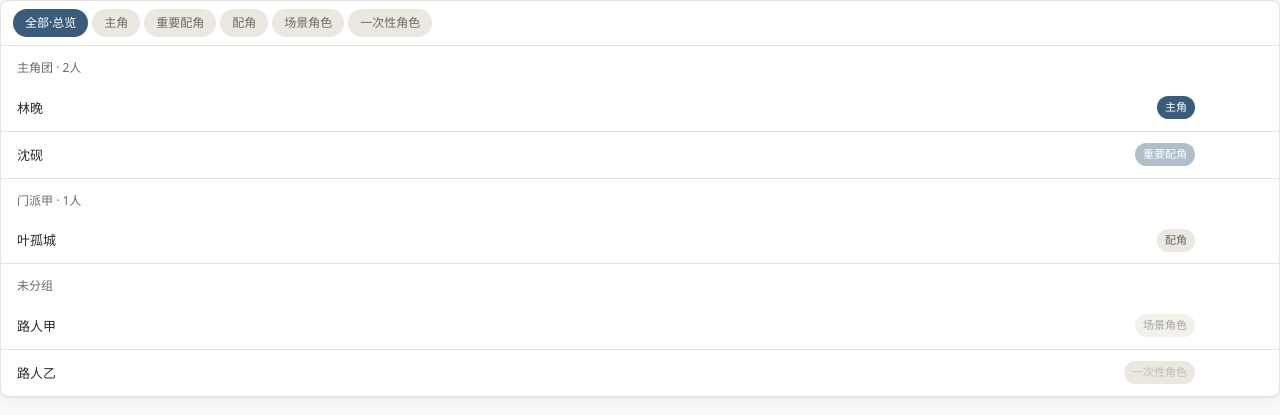
Test: #679 角色列表等级选项卡(总览/分览) + 分组卡片 + 等级徽标分色 › 选中某等级选项卡（分览）：仅显示该等级角色；点「全部」恢复总览
Click the button with test id "character-rank-tab-protagonist" at (116, 23), box [92,9,140,37]
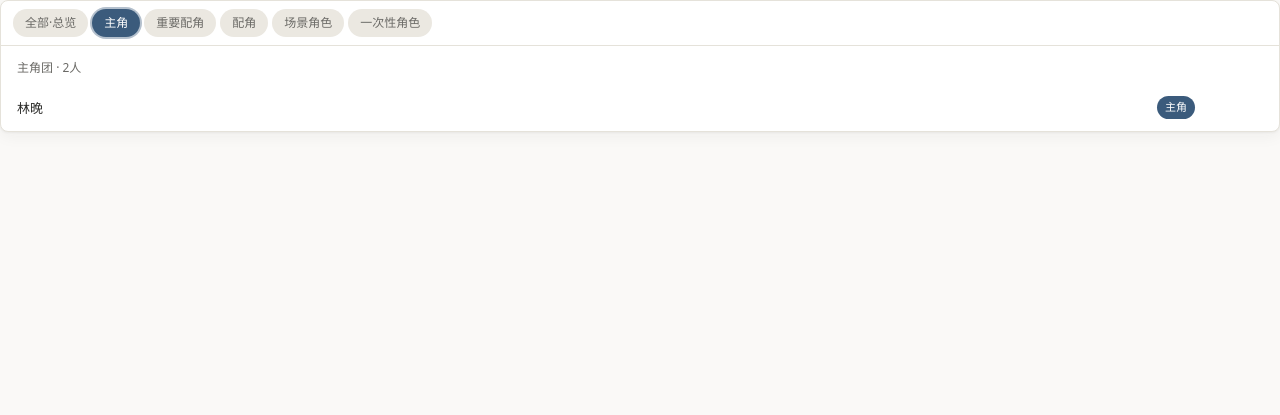
Expected: the button "沈砚" is gone
Expected: the button "叶孤城" is gone
Expected: the button "路人甲" is gone
点「全部·总览」回到总览
Click the button with test id "character-rank-tab-all" at (51, 23), box [13,9,88,37]
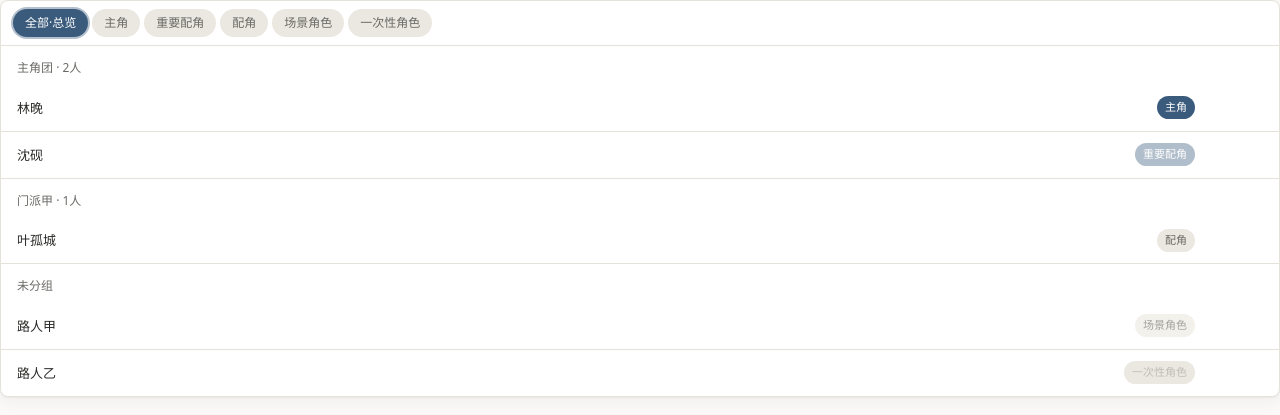
Expected: the button "沈砚" is shown, [17,144,1123,166]
Expected: the button "叶孤城" is shown, [17,229,1145,251]
